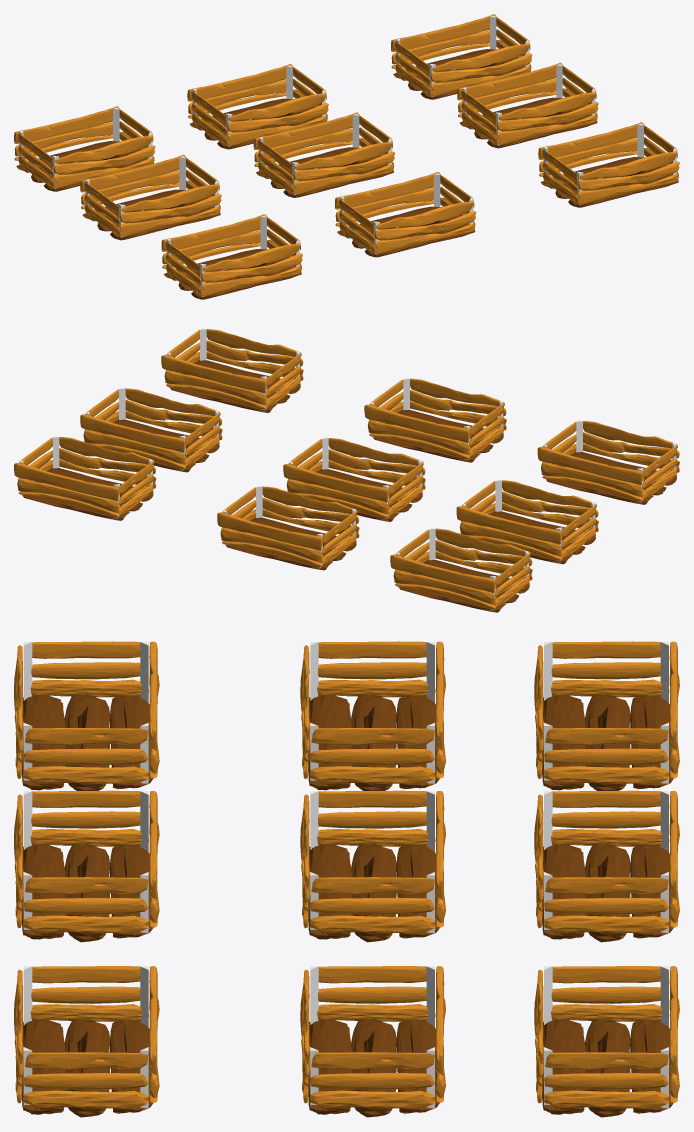
File: Crates.fbx
The picture shows the model from 3 angles, top to bottom: view 1: azimuth 30°, elevation 25°; view 2: azimuth 150°, elevation 25°; view 3: azimuth 270°, elevation 25°; orthographic projection. The views are drawn at different scales.
Visible parts, largest first — view 1: Crate.002; view 2: Crate.002; view 3: Crate.002.
Part boxes in pixels (box(x1,y1,x2,y2)): Crate.002: box(14, 14, 679, 299); Crate.002: box(14, 328, 679, 612); Crate.002: box(14, 641, 679, 1117).
Size of the model in its own units: 167 by 12.54 by 113.
